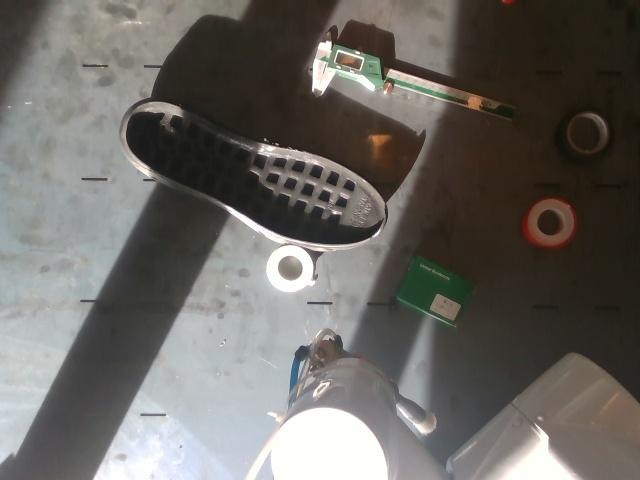shoes: (125, 103, 385, 245)
